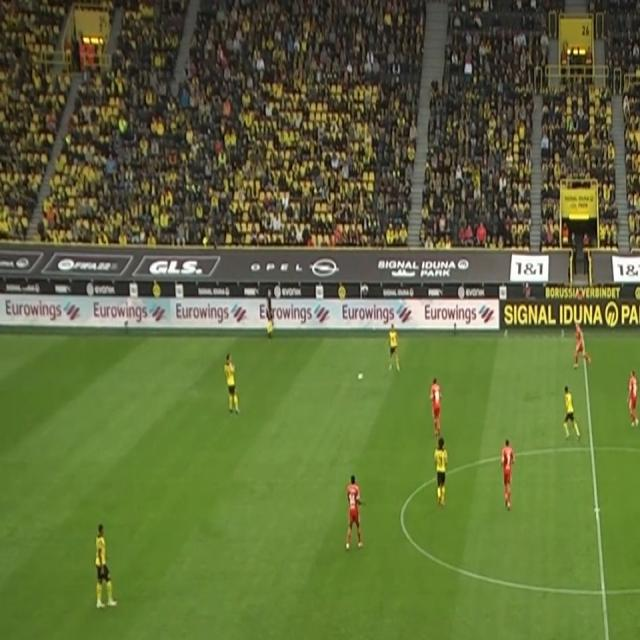ball: (356, 370, 365, 381)
